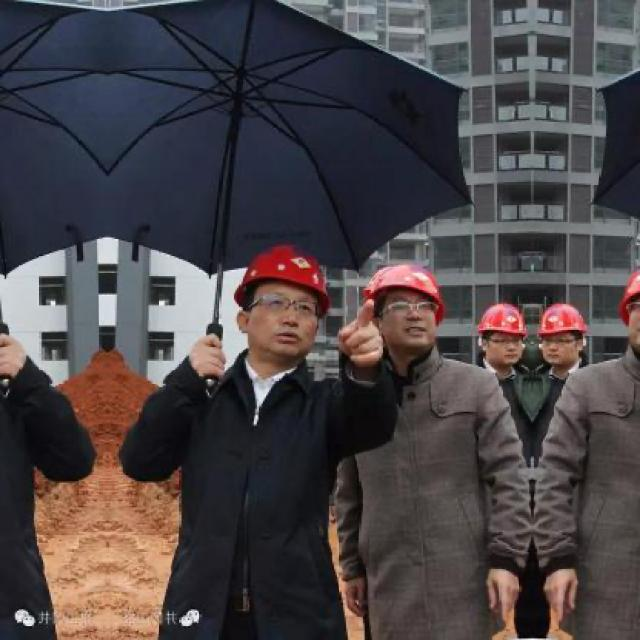helmet: (234, 242, 332, 366), (356, 261, 450, 367), (475, 298, 531, 372), (537, 298, 592, 372), (617, 259, 640, 367)
